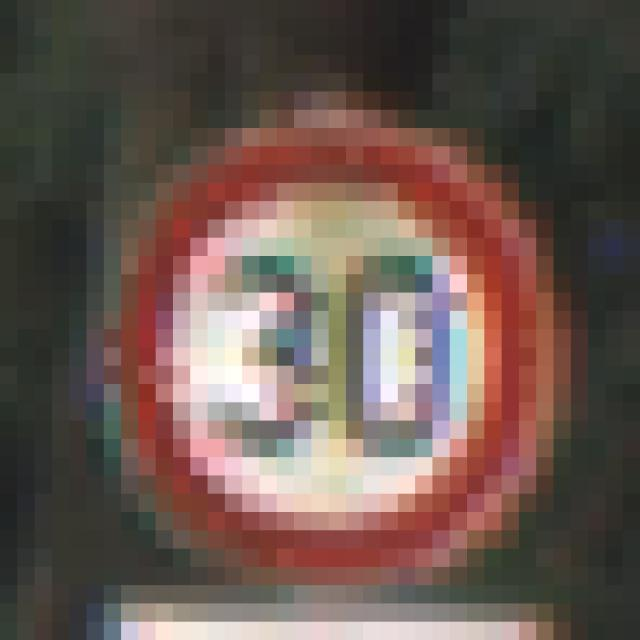Speed Limit -30-: (78, 82, 527, 540)
